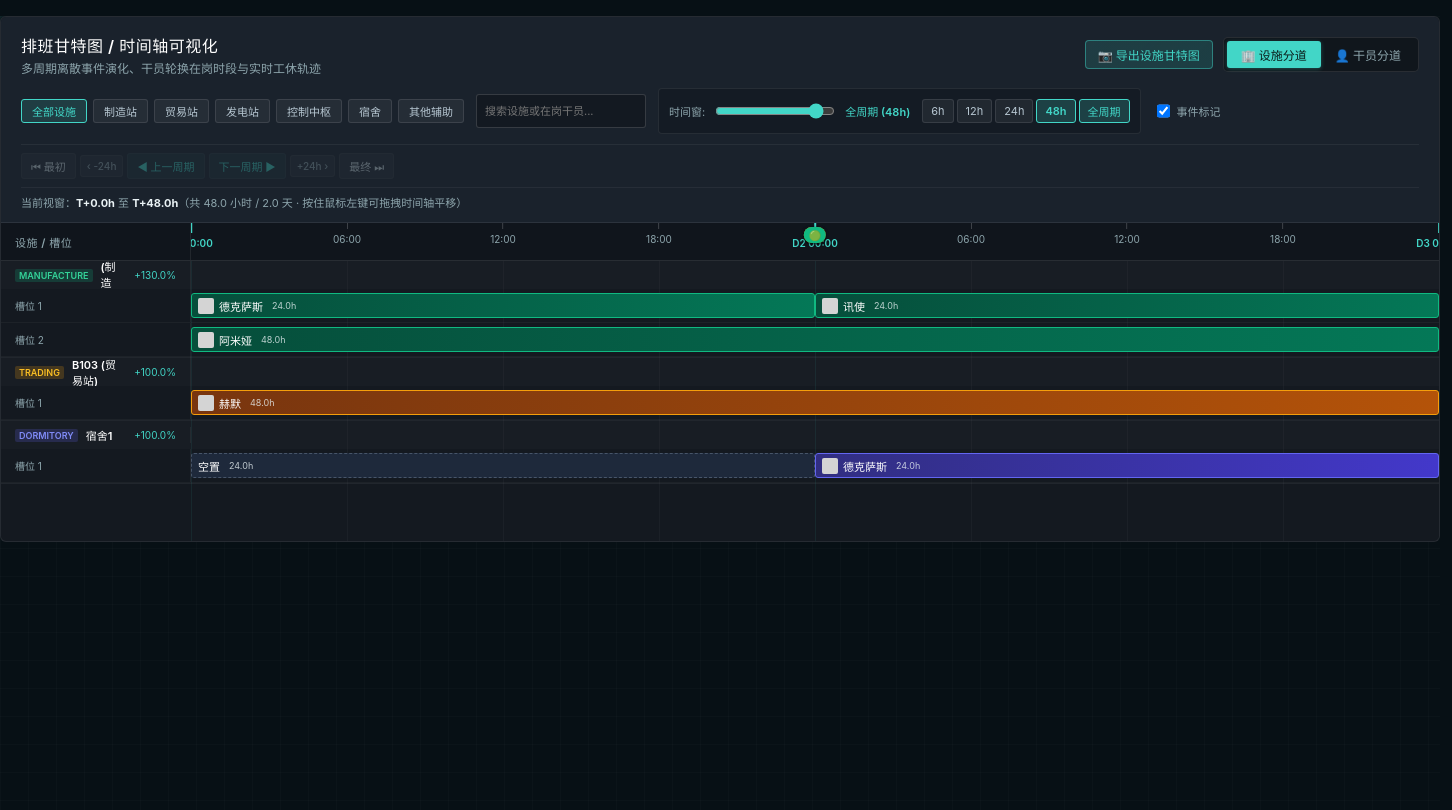
it: ScheduleTimelineGantt.vue › supports interactive dragging on overview track
Note: Set window to 12h so overview scrubber is rendered
Set the slider with test id "window-size-slider" to "12" at {"x": 738, "y": 111}, box [715,94,835,128]
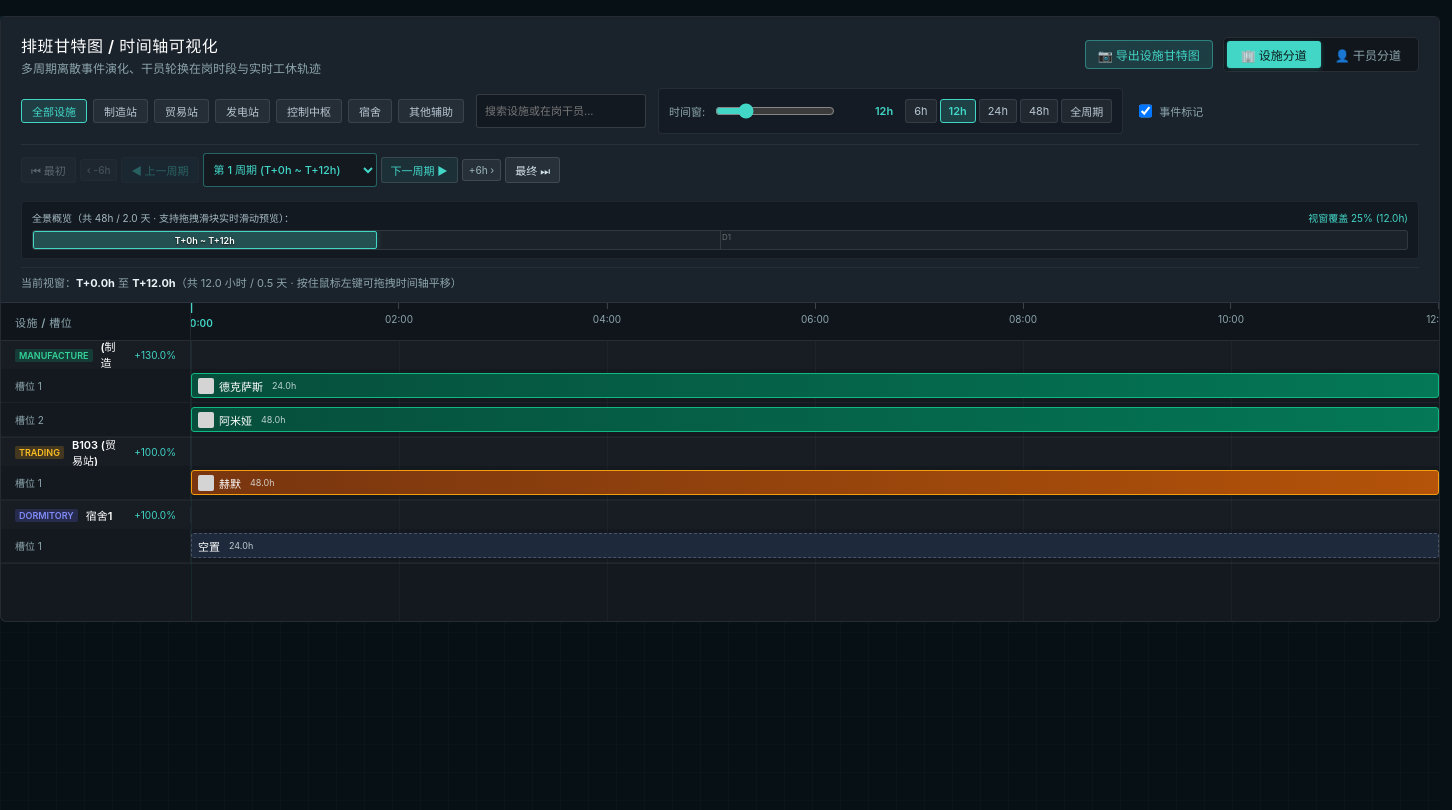
Check: the element with test id "gantt-overview-scrubber" is shown, box [21,201,1419,259]
Check: the element with test id "gantt-overview-scrubber" shows "支持拖拽滑块实时滑动预览", box [32,212,294,224]
